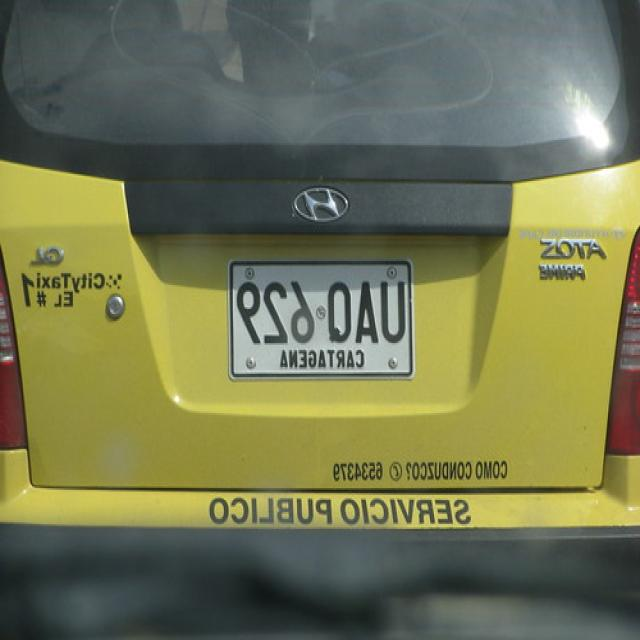placas: (232, 271, 408, 344)
